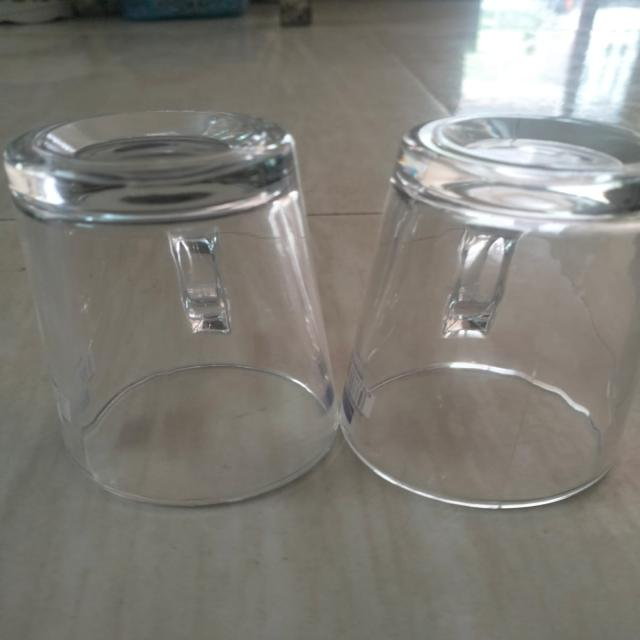glass-VX4N: (0, 108, 339, 511), (360, 114, 640, 504)
